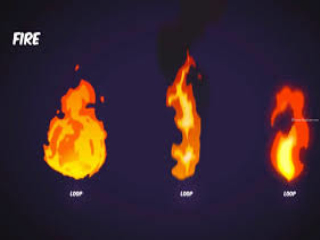fire: (35, 79, 122, 181), (157, 57, 209, 185), (254, 72, 311, 182)
